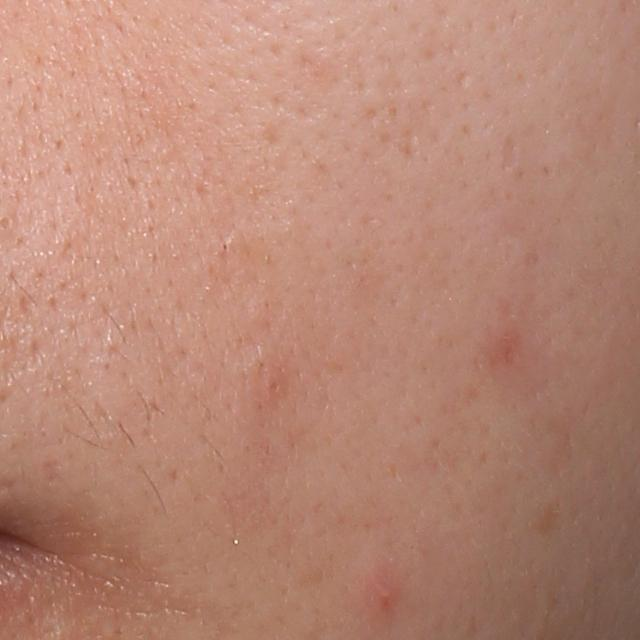atrophic_scar: (499, 129, 522, 173)
papule: (371, 583, 397, 610)
